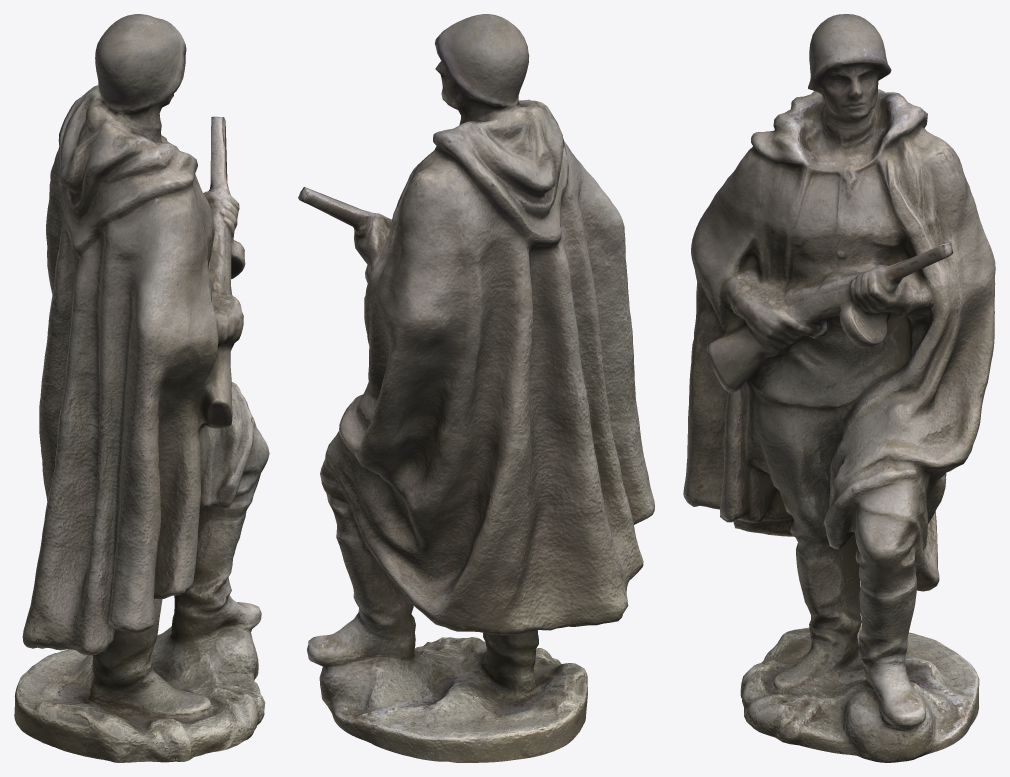
3 views of the same model, side by side, from view 1: azimuth 30°, elevation 25°; view 2: azimuth 150°, elevation 25°; view 3: azimuth 270°, elevation 25° (orthographic). The views are drawn at different scales.
Visible parts, largest first — view 1: Soldat; view 2: Soldat; view 3: Soldat.
Part boxes in pixels (x1,y1,x2,y2): Soldat: (14,14,269,762); Soldat: (298,14,654,762); Soldat: (683,14,995,762).
Size of the model in its own units: 0.8995 by 2.18 by 0.9026.
1 material, 1 textured.
